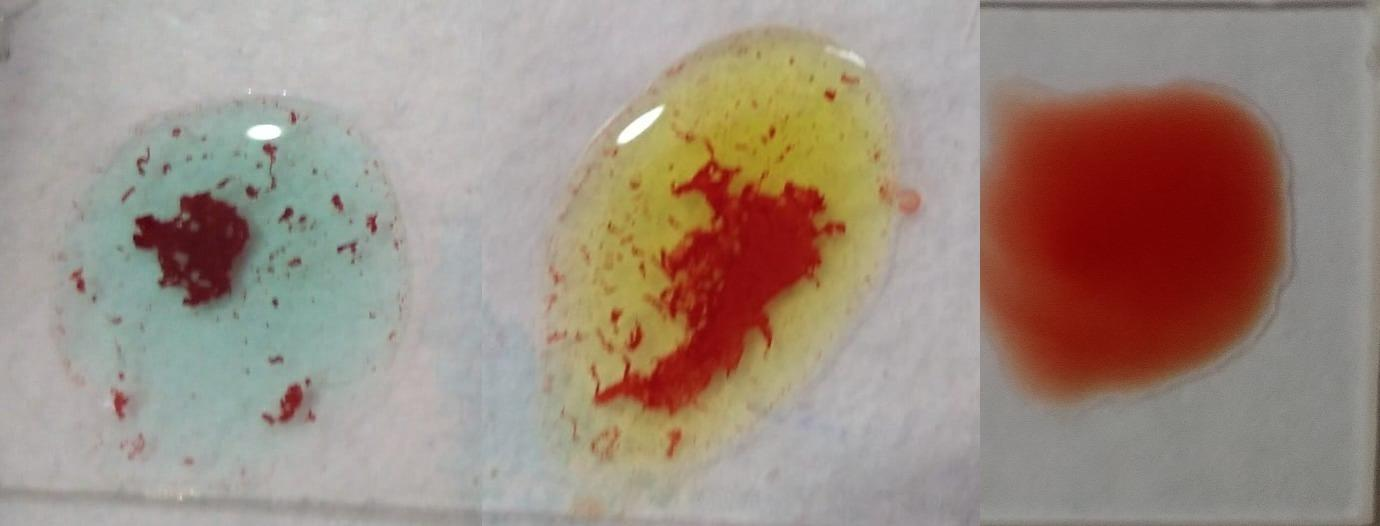A: (51, 88, 415, 449)
B: (539, 36, 896, 463)
